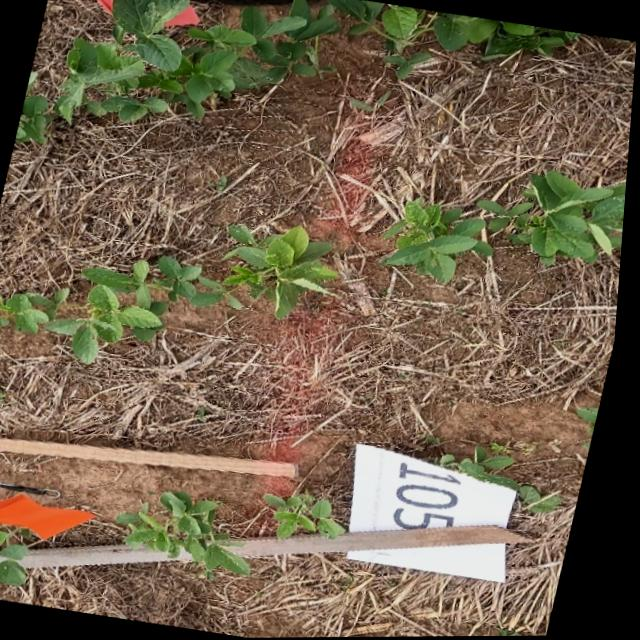soy_plant: (0, 225, 339, 363), (53, 0, 349, 122), (387, 173, 629, 283), (376, 5, 579, 79), (441, 443, 569, 513), (271, 494, 352, 540), (17, 74, 52, 142)
